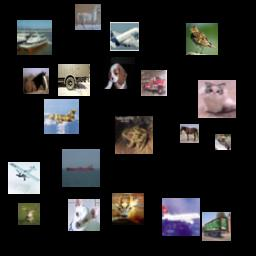airplane: (162, 198, 200, 236), (44, 99, 79, 134), (8, 162, 40, 194), (110, 22, 139, 51)
bird: (186, 23, 218, 55)
cat: (198, 80, 236, 118), (215, 134, 231, 150)
deer: (112, 193, 144, 225), (18, 203, 40, 225)
dog: (103, 57, 135, 89), (68, 199, 100, 231)
frog: (115, 116, 153, 154)
ship: (62, 149, 100, 187), (17, 20, 52, 55)
truck: (58, 64, 90, 96), (202, 212, 231, 241), (141, 70, 167, 96)
